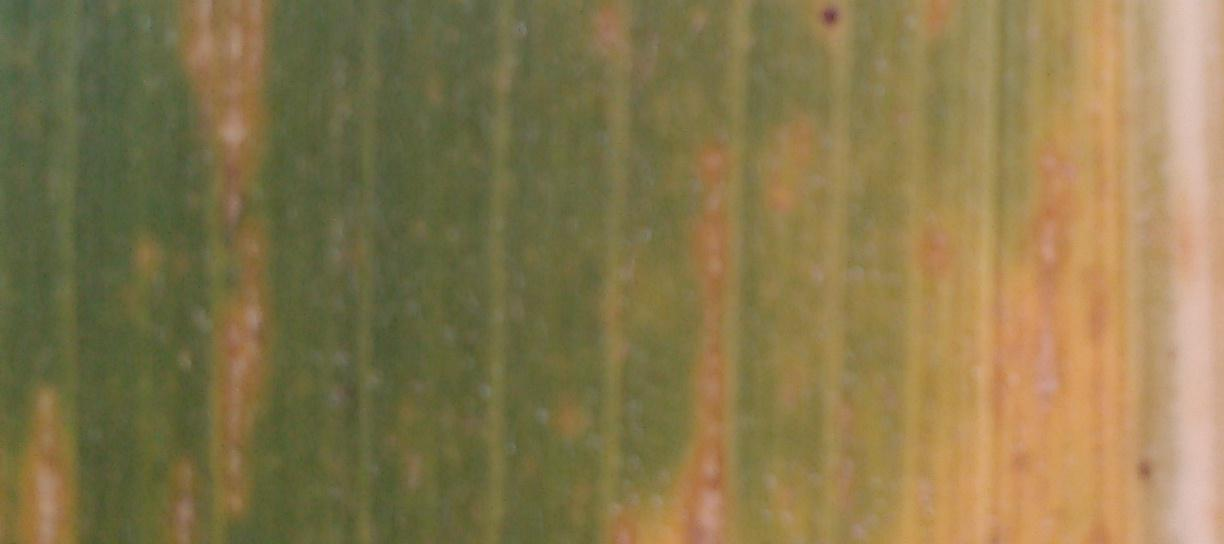tarspot: (810, 1, 853, 40), (1128, 450, 1164, 496)
